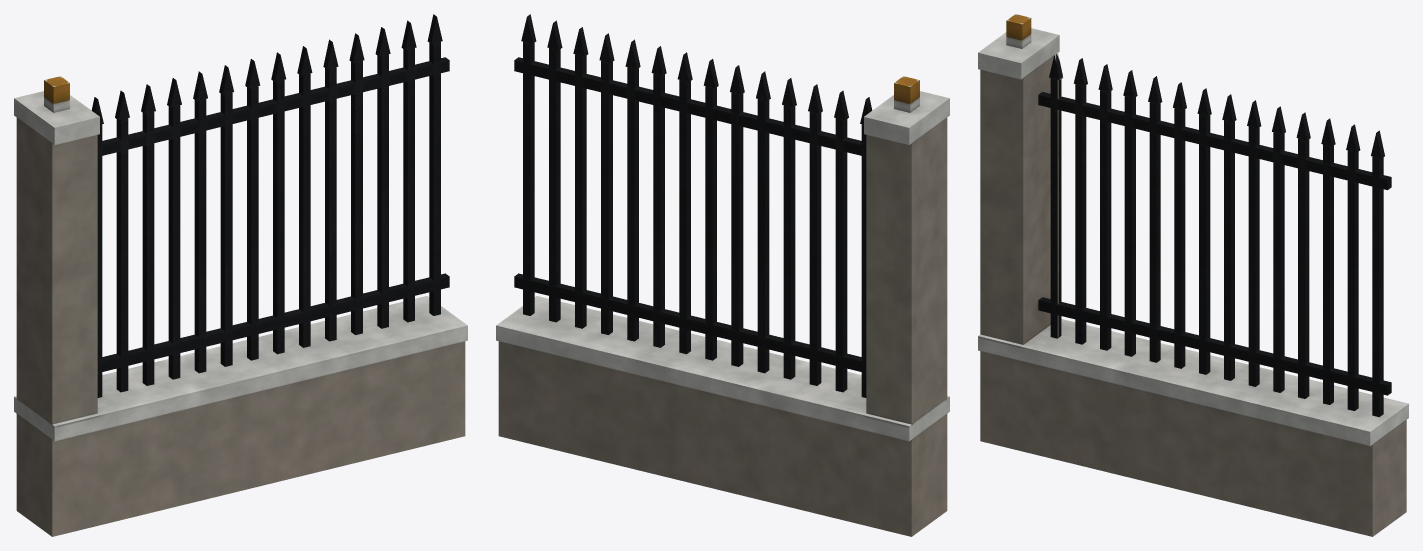
Rendered from iron_fence.glb.
3 views of the same model, side by side, from view 1: azimuth 30°, elevation 25°; view 2: azimuth 150°, elevation 25°; view 3: azimuth 330°, elevation 25° (orthographic). The views are drawn at different scales.
Visible parts, largest first — view 1: iron_fence; view 2: iron_fence; view 3: iron_fence.
Boxes of the visible parts, box(x1,y1,x2,y2) form: iron_fence: box(14, 14, 467, 536); iron_fence: box(496, 14, 949, 536); iron_fence: box(978, 14, 1408, 536).
Size of the model in its own units: 2 by 2.02 by 0.34.
Materials: 1 (1 with a texture image).
